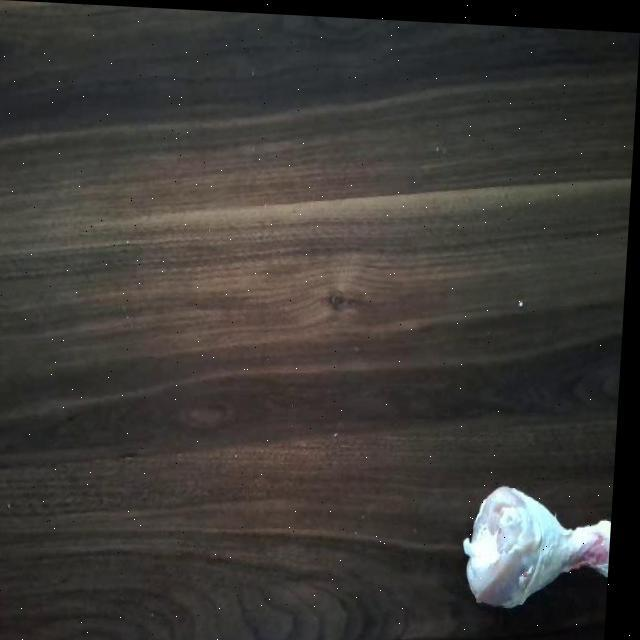leg: (474, 473, 619, 608)
